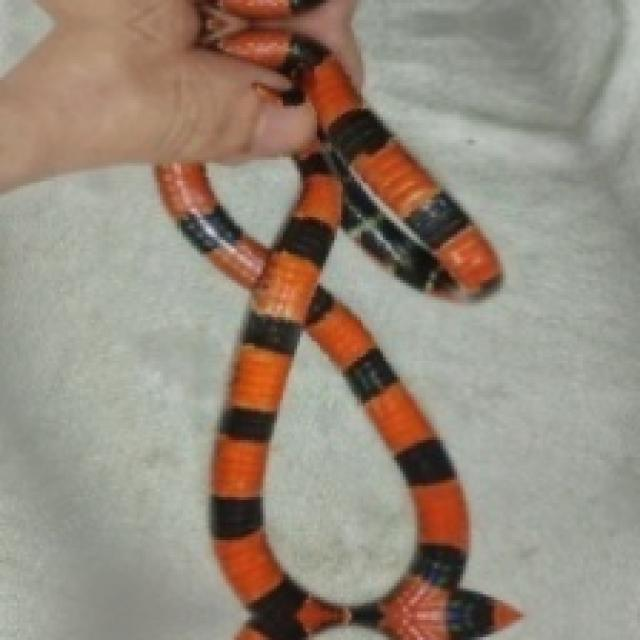barredcoral snake: (154, 0, 520, 637), (260, 326, 417, 606)
